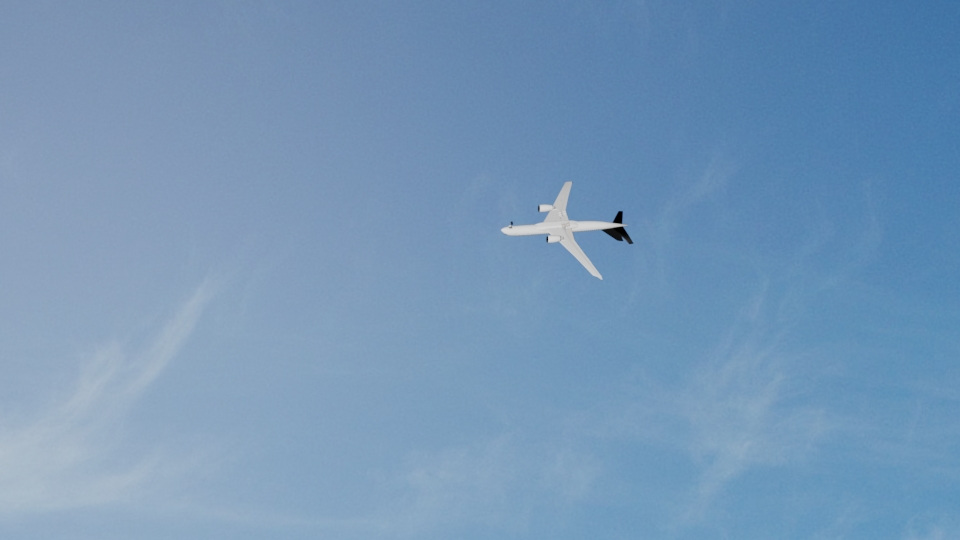plane: (500, 180, 635, 283)
